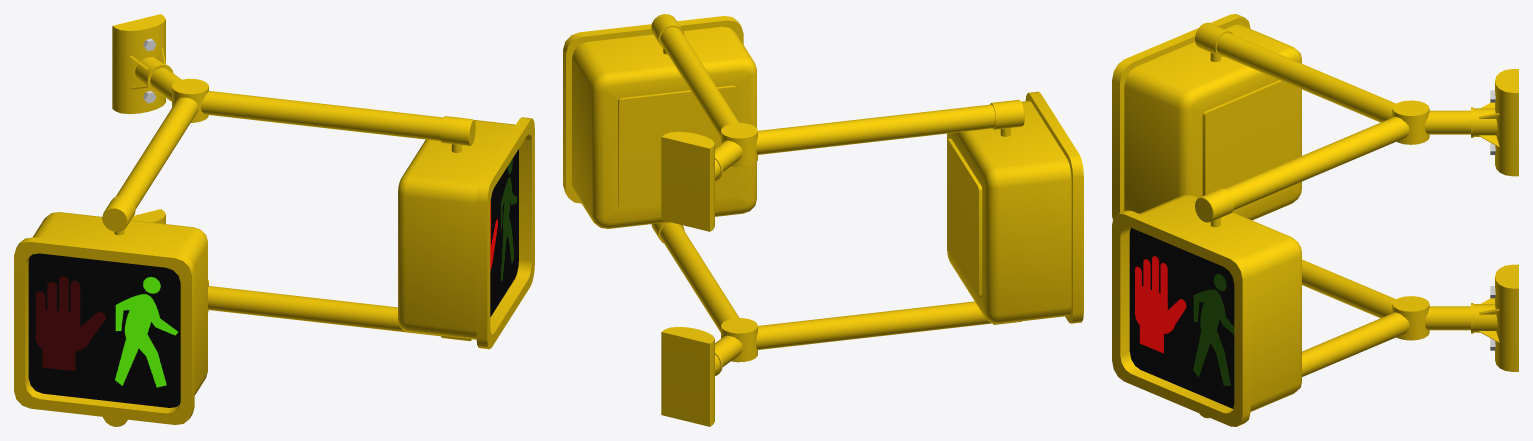
The model's file is pedestrian_traffic_light_02_base_medium_yellow.glb.
3 views of the same model, side by side, from view 1: azimuth 30°, elevation 25°; view 2: azimuth 150°, elevation 25°; view 3: azimuth 270°, elevation 25° (orthographic).
Parts seen in each view (by area): view 1: pedestrian_light_traffic_01_yellow_small.001, pedestrian_light_traffic_01_yellow_small, pedestrian_traffic_light_02_base_medium_yellow; view 2: pedestrian_traffic_light_02_base_medium_yellow, pedestrian_light_traffic_01_yellow_small, pedestrian_light_traffic_01_yellow_small.001; view 3: pedestrian_light_traffic_01_yellow_small, pedestrian_light_traffic_01_yellow_small.001, pedestrian_traffic_light_02_base_medium_yellow.
Part boxes in pixels (x1,y1,x2,y2): pedestrian_light_traffic_01_yellow_small.001: (14, 212, 207, 424); pedestrian_light_traffic_01_yellow_small: (398, 117, 534, 349); pedestrian_traffic_light_02_base_medium_yellow: (102, 14, 475, 426); pedestrian_traffic_light_02_base_medium_yellow: (651, 14, 1024, 426); pedestrian_light_traffic_01_yellow_small: (563, 16, 756, 228); pedestrian_light_traffic_01_yellow_small.001: (947, 91, 1083, 323); pedestrian_light_traffic_01_yellow_small: (1112, 195, 1301, 426); pedestrian_light_traffic_01_yellow_small.001: (1112, 14, 1301, 220); pedestrian_traffic_light_02_base_medium_yellow: (1195, 22, 1518, 418).
Size of the model in its own units: 0.7013 by 0.358 by 0.473.
3 materials, 3 textured.
